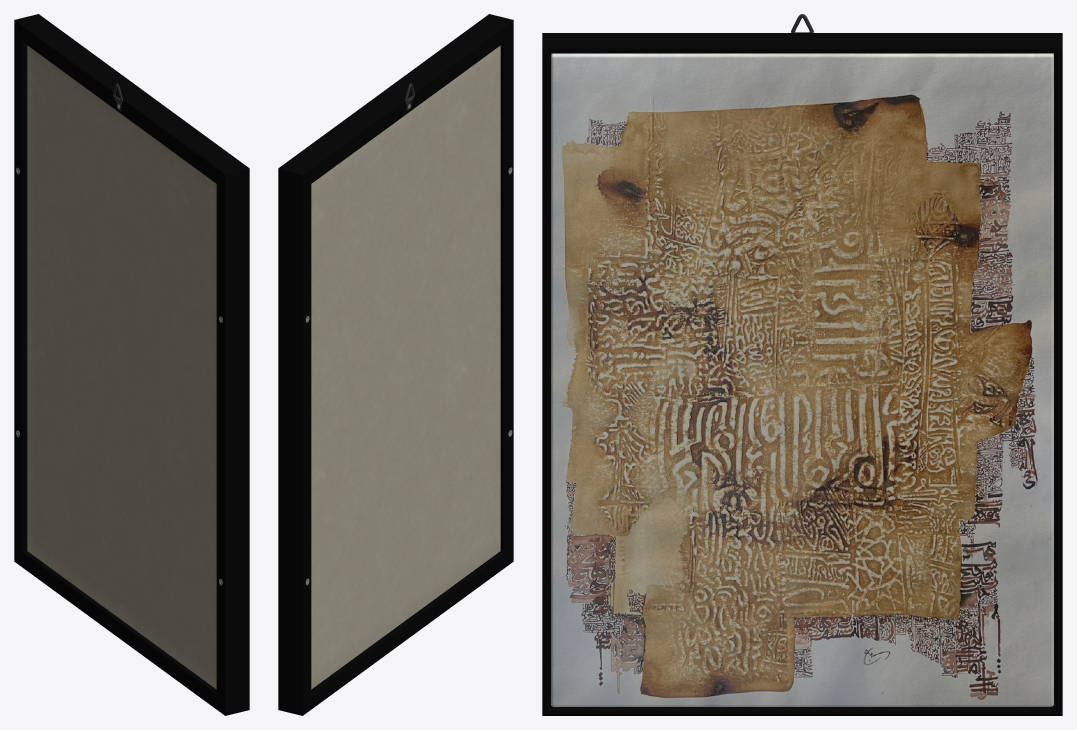
The model's file is table 5glb.glb.
3 renders of one model, left to right at view 1: azimuth 30°, elevation 25°; view 2: azimuth 150°, elevation 25°; view 3: azimuth 270°, elevation 25°, orthographic. The views are drawn at different scales.
Parts seen in each view (by area): view 1: Canvas.003, Frame.003; view 2: Canvas.003, Frame.003; view 3: Canvas.003, Frame.003.
Part boxes in pixels (x1,y1,x2,y2): Canvas.003: [27, 45, 216, 689]; Frame.003: [14, 14, 249, 715]; Canvas.003: [311, 45, 500, 689]; Frame.003: [278, 14, 513, 715]; Canvas.003: [551, 53, 1053, 706]; Frame.003: [542, 33, 1062, 715].
Bounding box in the file's own units: 0.0457 × 0.8722 × 0.6.
5 materials, 2 textured.
